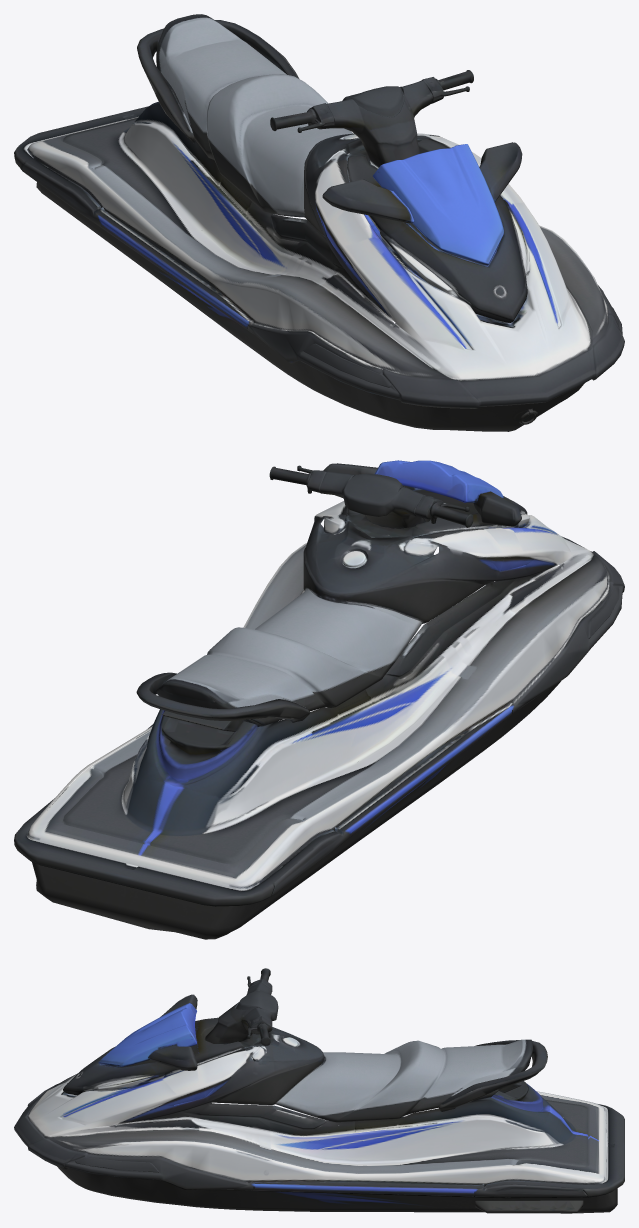
File: jet-ski.glb
3 views of the same model, one above another, from view 1: azimuth 30°, elevation 25°; view 2: azimuth 150°, elevation 25°; view 3: azimuth 270°, elevation 25° (orthographic). The views are drawn at different scales.
Visible parts, largest first — view 1: b9ac87aa-009b-4157-b256-e317b720ecb9; view 2: b9ac87aa-009b-4157-b256-e317b720ecb9; view 3: b9ac87aa-009b-4157-b256-e317b720ecb9.
Part boxes in pixels (box(x1,y1,x2,y2)): b9ac87aa-009b-4157-b256-e317b720ecb9: box(14, 14, 624, 431); b9ac87aa-009b-4157-b256-e317b720ecb9: box(14, 460, 624, 939); b9ac87aa-009b-4157-b256-e317b720ecb9: box(14, 968, 624, 1213).
Size of the model in its own units: 0.394 by 0.3774 by 0.9995.
1 material, 1 textured.
